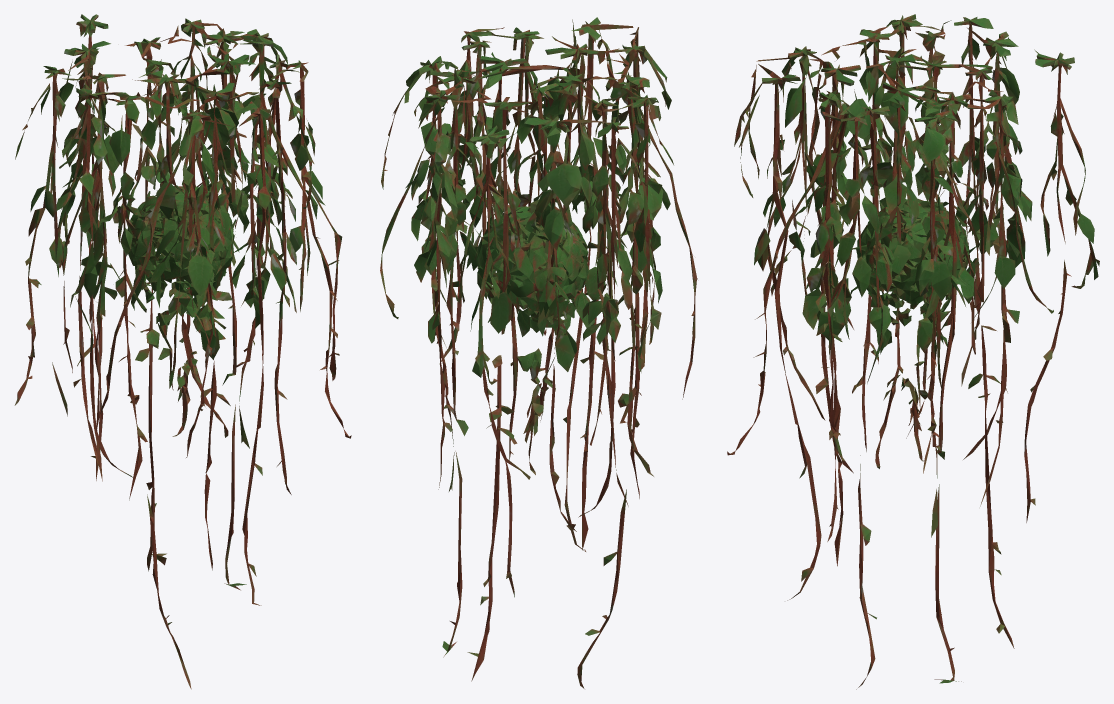
Rendered from Vines.glb.
3 views of the same model, side by side, from view 1: azimuth 30°, elevation 25°; view 2: azimuth 150°, elevation 25°; view 3: azimuth 270°, elevation 25° (orthographic). The views are drawn at different scales.
Bounding box in the file's own units: 0.8569 × 1.9 × 1.01.
Materials: 1 (1 with a texture image).
